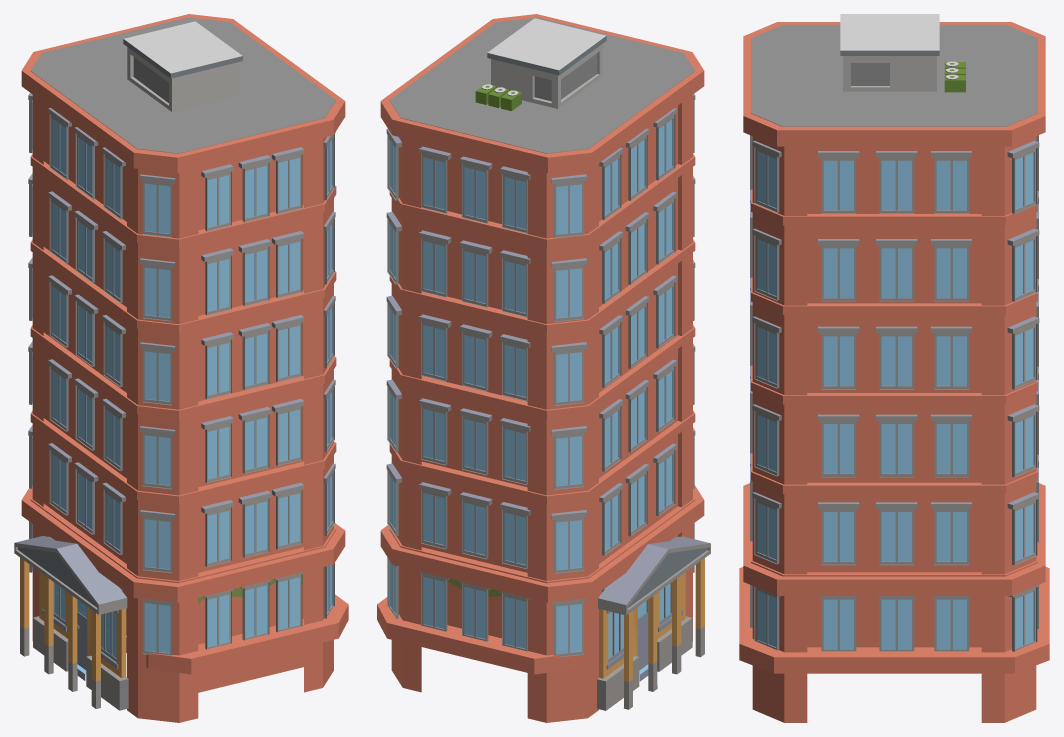
File: putong_zhongxing09.fbx
3 views of the same model, side by side, from view 1: azimuth 30°, elevation 25°; view 2: azimuth 150°, elevation 25°; view 3: azimuth 270°, elevation 25° (orthographic). The views are drawn at different scales.
Visible parts, largest first — view 1: putong_zhongxing09; view 2: putong_zhongxing09; view 3: putong_zhongxing09.
Part boxes in pixels (left/top/right/bottom): putong_zhongxing09: left=14, top=14, right=348, bottom=722; putong_zhongxing09: left=377, top=14, right=710, bottom=722; putong_zhongxing09: left=739, top=14, right=1049, bottom=722.
Size of the model in its own units: 393 by 431 by 979.
